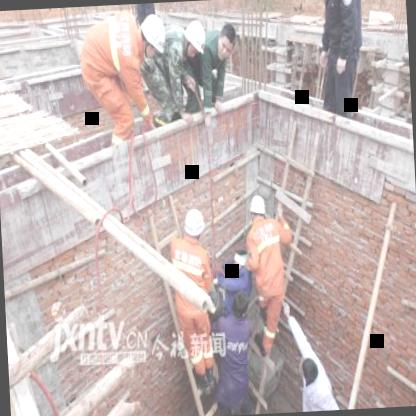helmet: (136, 11, 167, 60), (180, 18, 206, 59), (180, 204, 206, 242), (245, 192, 266, 224)
